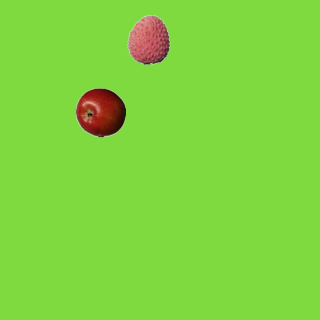Apple Braeburn: (75, 87, 125, 137)
Lychee: (123, 14, 173, 64)
